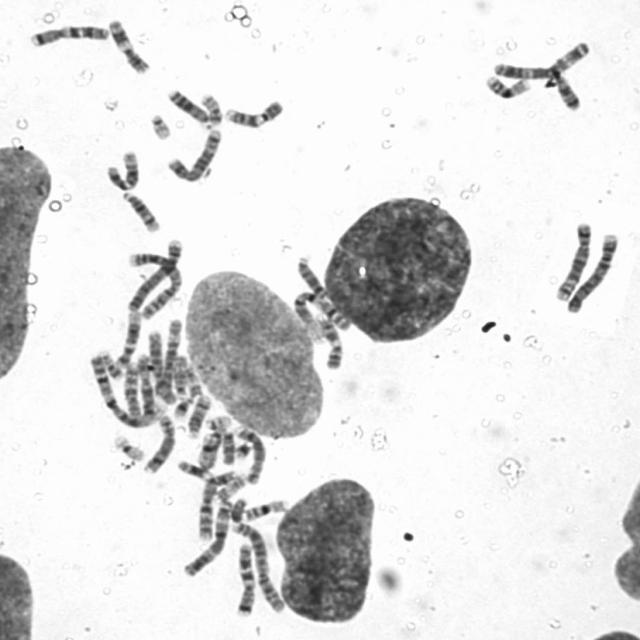A1: (85, 348, 166, 428), (288, 286, 354, 341)
A2: (226, 517, 286, 615), (112, 250, 186, 321)
A3: (488, 35, 592, 81), (178, 494, 235, 577)
B4: (561, 227, 621, 314), (122, 236, 185, 316)
B5: (160, 123, 224, 183), (550, 216, 594, 303)
C10: (122, 359, 146, 422), (197, 479, 217, 542)
C11: (104, 13, 152, 75), (174, 456, 242, 487)
C12: (109, 306, 142, 371), (101, 144, 142, 192)
C6: (150, 314, 184, 405), (142, 324, 180, 405)
C7: (24, 18, 111, 48), (230, 537, 259, 618)
C8: (138, 408, 177, 475), (232, 421, 268, 485)
C9: (218, 94, 286, 128), (311, 311, 345, 370)
D13: (162, 83, 212, 125), (292, 250, 329, 300)
D14: (117, 186, 161, 233), (181, 390, 213, 440)
D15: (547, 65, 582, 111), (146, 358, 178, 403)
E16: (480, 69, 534, 100), (238, 494, 288, 522)
E17: (210, 469, 248, 503), (182, 363, 204, 403)
E18: (170, 352, 190, 398), (216, 426, 236, 466)
F19: (108, 429, 147, 462), (194, 430, 224, 470)
F20: (195, 88, 224, 128), (94, 348, 124, 380)
G21: (168, 390, 195, 419), (230, 436, 259, 458)
G22: (144, 107, 173, 141), (201, 410, 233, 431)
X: (135, 354, 160, 424)
Y: (226, 492, 248, 523)
